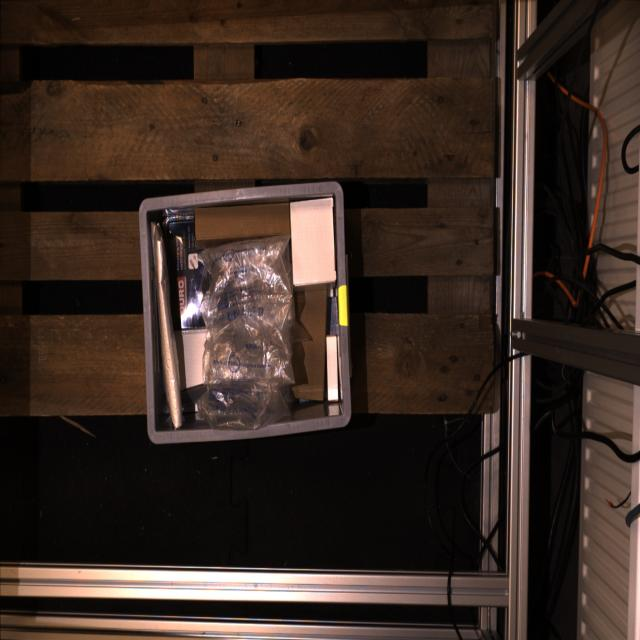CardboardBox: (195, 204, 289, 250), (290, 197, 337, 286), (292, 289, 327, 400), (182, 329, 206, 388), (326, 336, 338, 403)
ItemPackaging: (166, 210, 210, 330)
Package: (150, 221, 184, 429)
PackagingAirBags: (200, 236, 295, 429)
